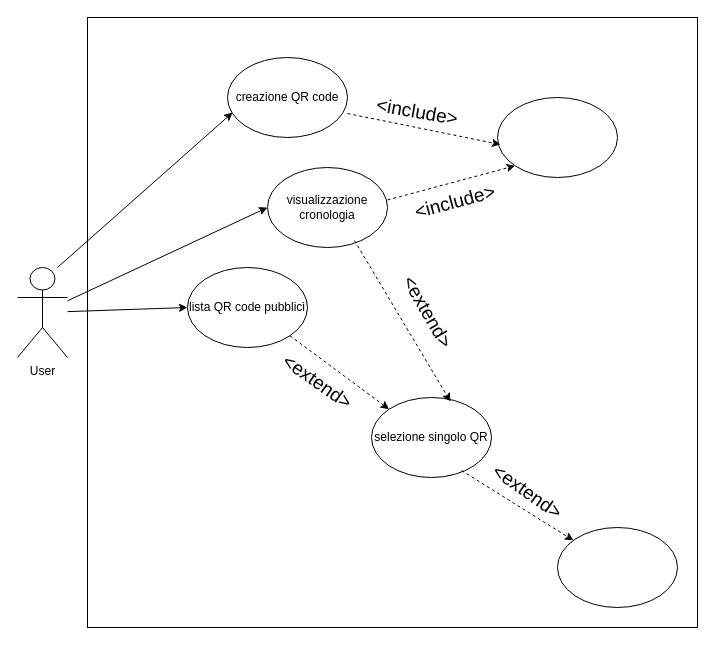
The diagram is 715 pixels wide and 645 high, and some of its shapes have lost their labels. The shapes that lost their labels are listed below. From the top down, each one's centre as x and y in pixels, then its label:
At point (557, 137): "possibilità di login/accesso".
At point (617, 567): "stampa QR code".
